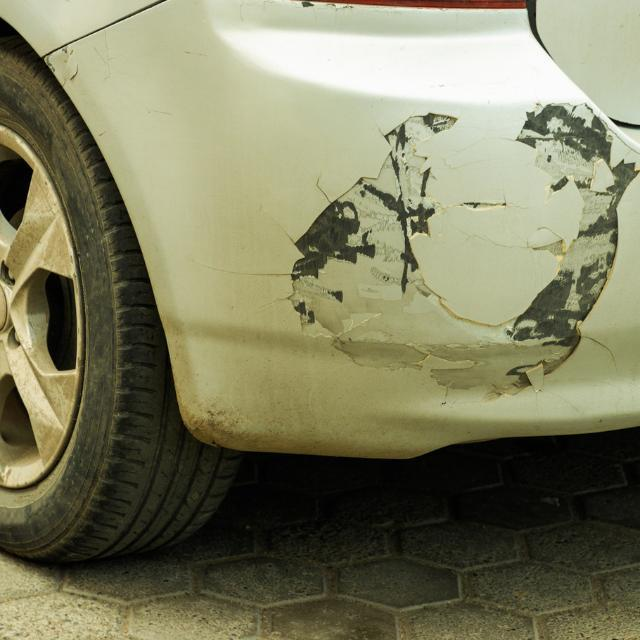Bumper: (192, 52, 640, 421)
